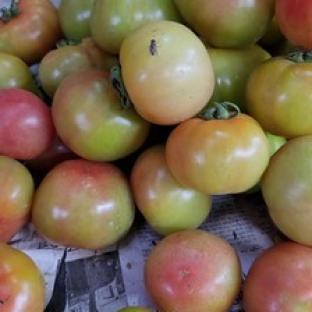Tomato: (120, 21, 214, 125), (166, 104, 270, 194), (33, 159, 135, 249), (52, 69, 150, 161), (144, 230, 240, 311), (130, 144, 211, 235), (246, 52, 311, 137), (261, 136, 311, 245), (243, 241, 311, 311), (39, 38, 118, 98), (208, 45, 270, 112), (0, 88, 54, 160), (0, 243, 44, 311), (0, 155, 34, 242), (24, 134, 77, 182), (0, 52, 37, 93), (258, 16, 286, 51), (119, 307, 154, 311)
